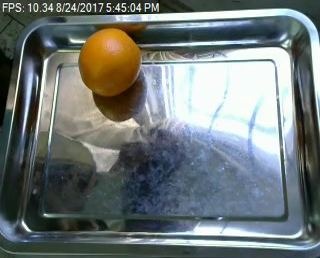Orange: (78, 27, 142, 95)
